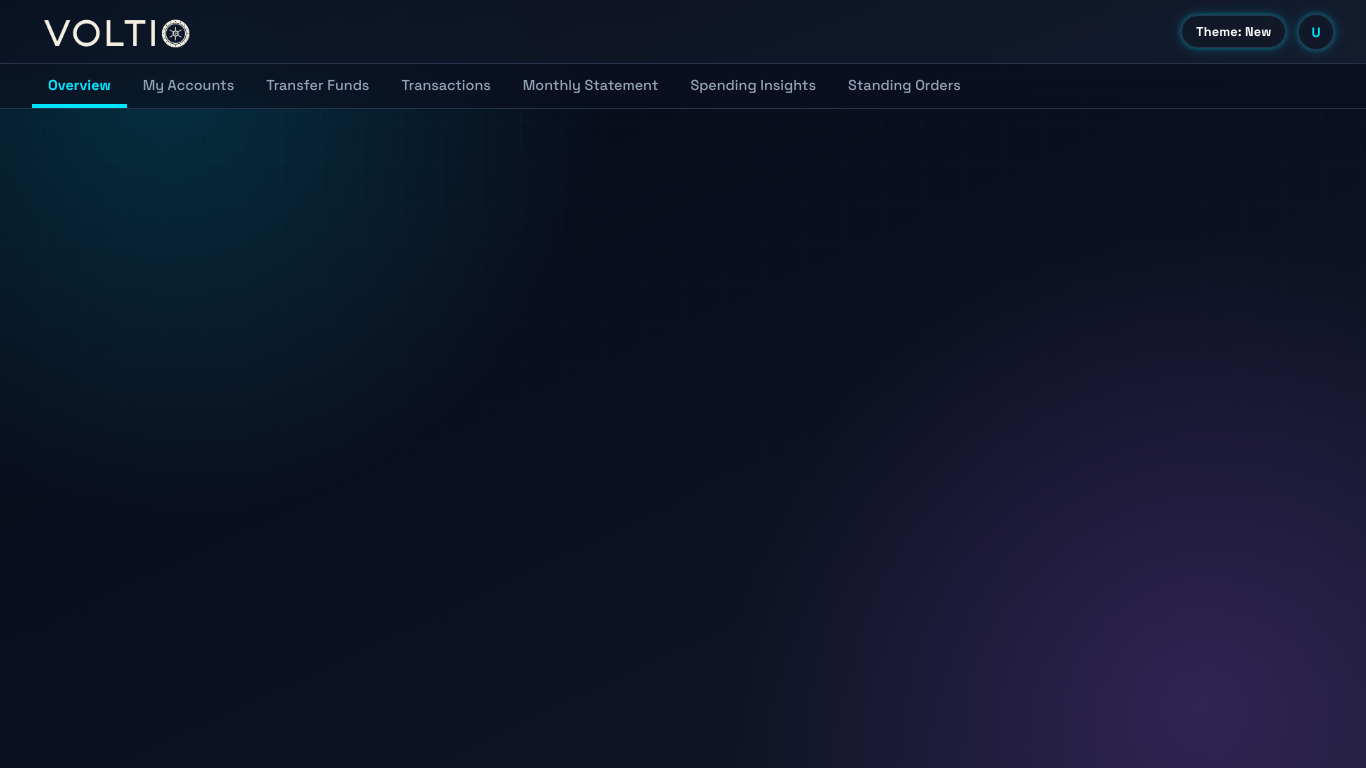
Scenario: Navbar and Sub-Navbar (AppLayout) › feature nav buttons — no active account (opens account picker) › opens the account picker modal when no account is active
Click the button "Transactions": [446, 86] box [385,64,507,108]
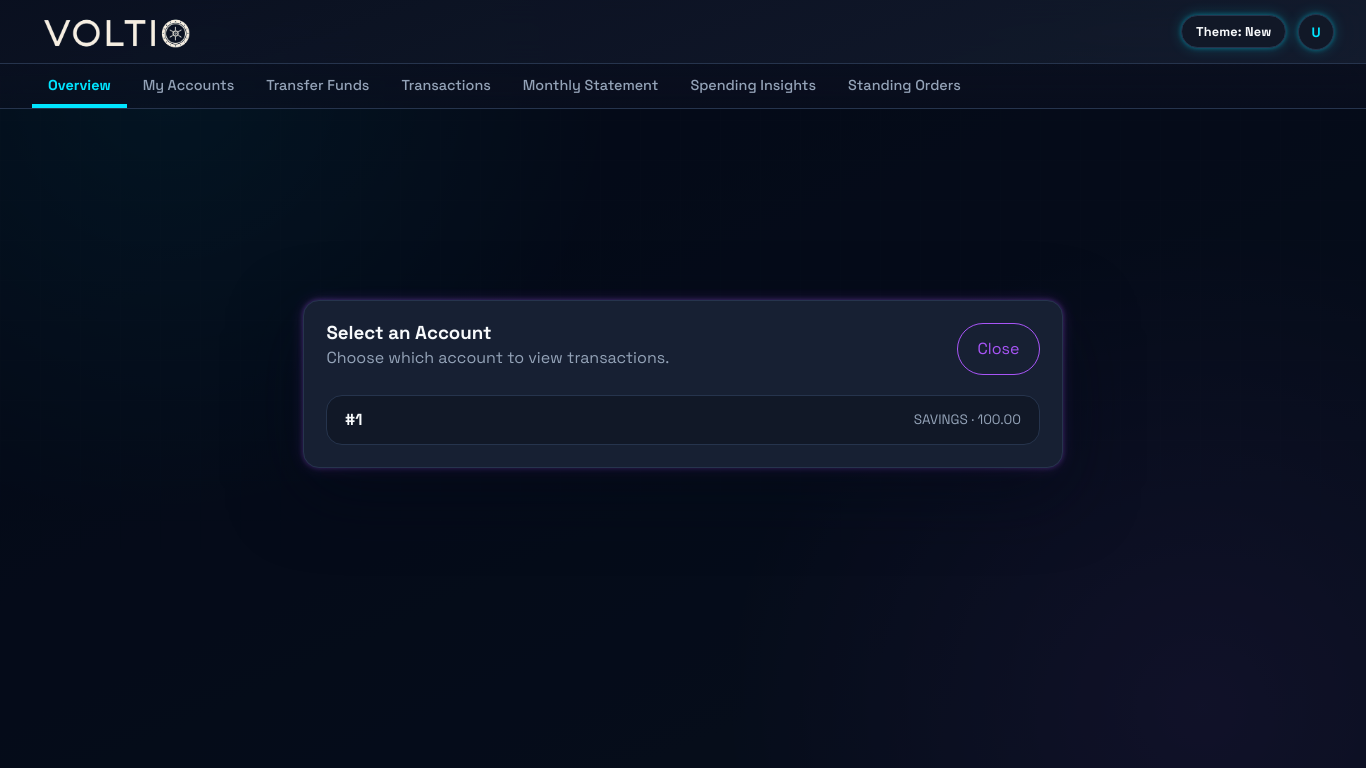
Now the dialog is shown, box [303,300,1063,468]
Now the heading "Select an Account" is shown, box [326,321,492,344]
